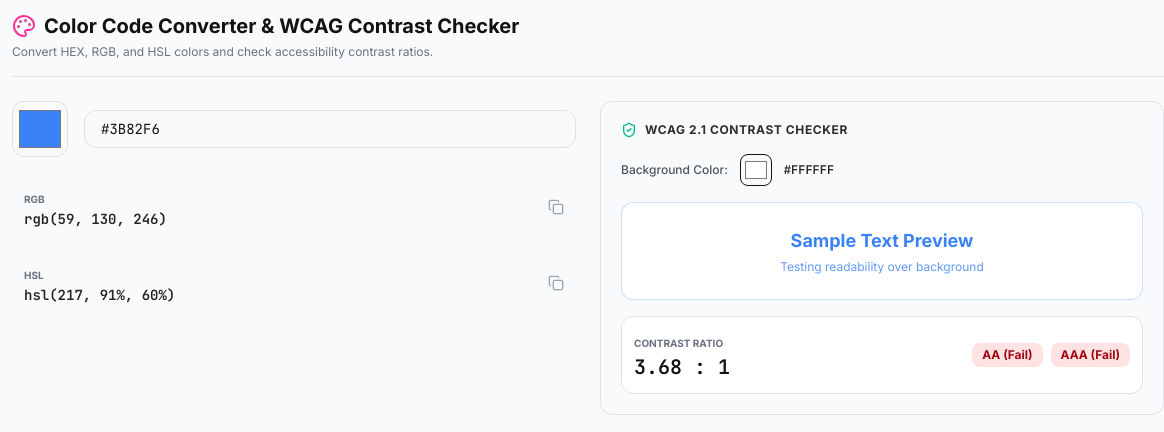
Scenario: ColorTool Component › handles input validation for invalid HEX formats gracefully
// Type an invalid HEX color
Replace the text in the field with "#invalid" at (330, 129), box [84,110,576,148]
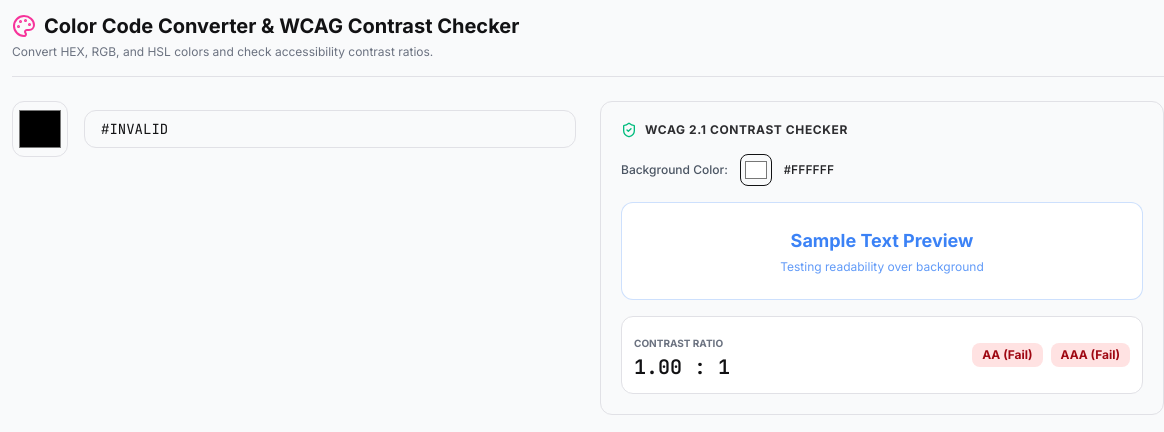
Now the text "rgb(" is gone
Now the text "hsl(" is gone
